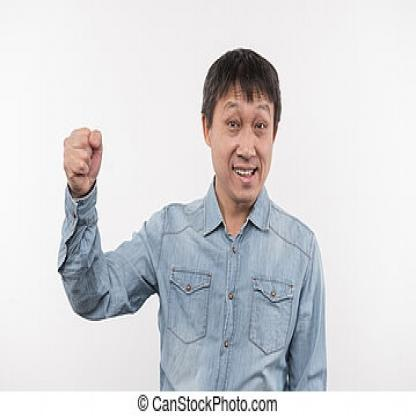fist: (57, 122, 116, 206)
